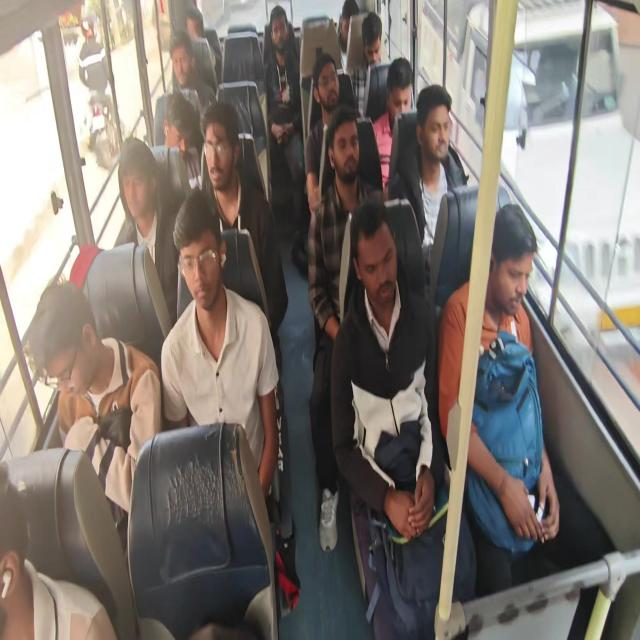person: (20, 2, 563, 636), (330, 199, 477, 638), (437, 202, 560, 592), (160, 190, 279, 499), (22, 277, 162, 534), (307, 102, 383, 552), (198, 102, 288, 337), (0, 461, 117, 639), (388, 83, 467, 259), (113, 136, 180, 324), (263, 5, 306, 259), (304, 52, 359, 214), (372, 56, 414, 194), (166, 30, 216, 128), (162, 92, 203, 195), (351, 11, 383, 118), (184, 6, 219, 85), (336, 0, 359, 72)
